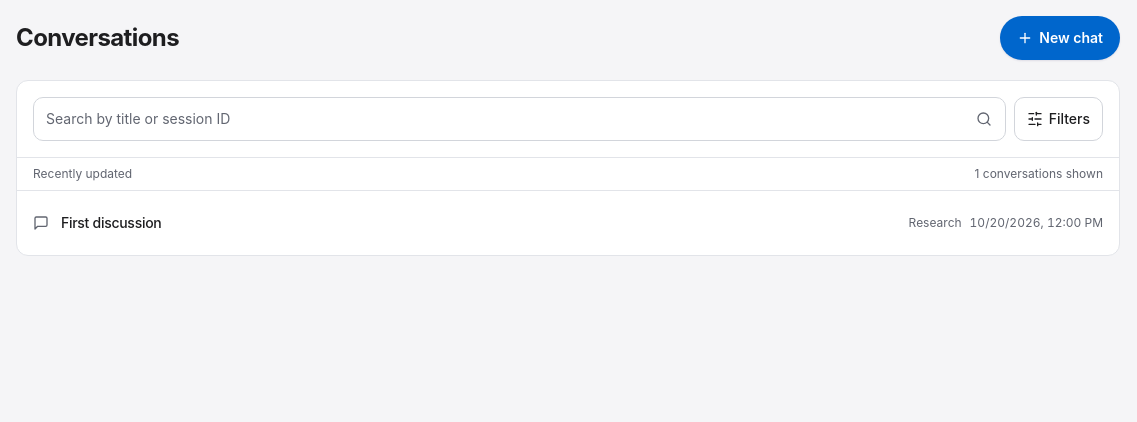
sessions 全局列表 › 筛选按需展开，收起保留草稿，应用后显示条件并可重置
Expected: the heading "First discussion" is shown, [61, 213, 162, 233]
Click the button "Filters".
click(1058, 119)  # box [1014, 97, 1103, 141]
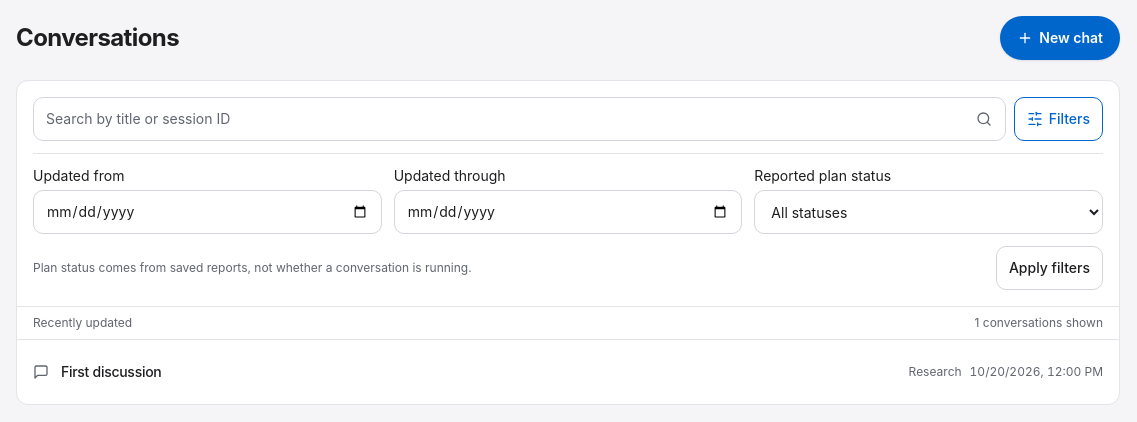
Select "Completed" in the dropdown labelled "Reported plan status" at (929, 212), box [754, 190, 1103, 234]
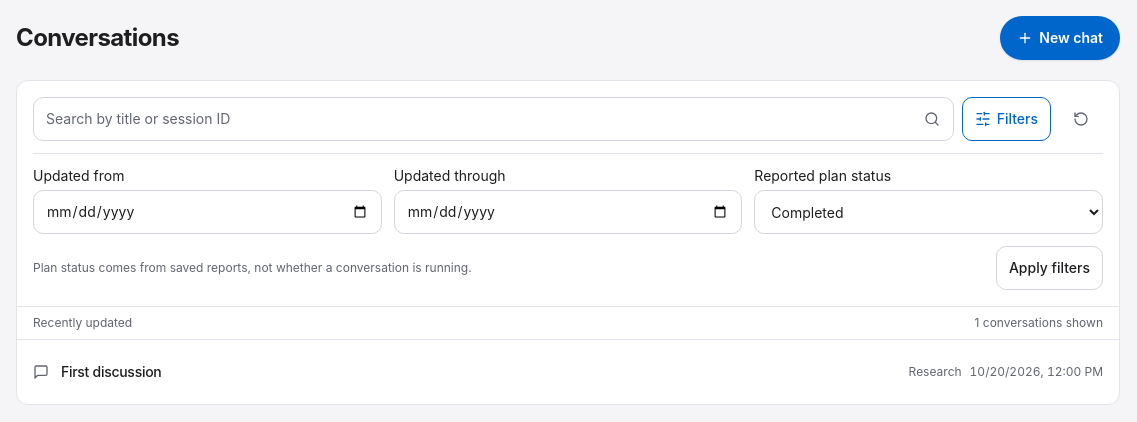
Click the button "Filters".
click(1006, 119)  # box [962, 97, 1051, 141]
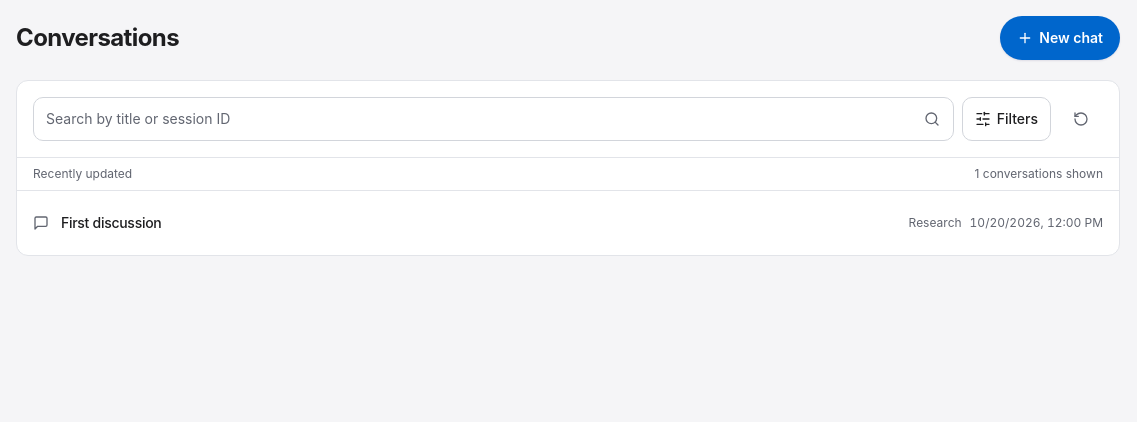
Click the button "Filters".
click(1006, 119)  # box [962, 97, 1051, 141]
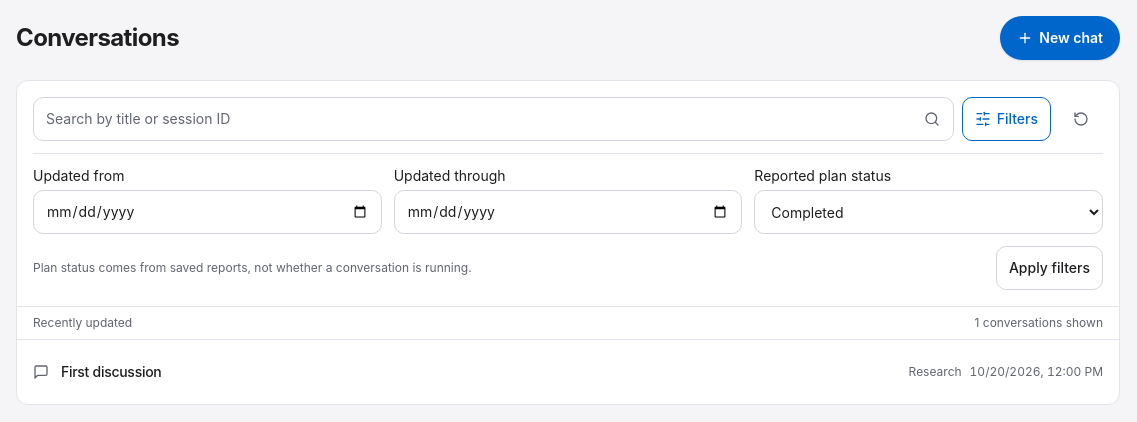
Result: the dropdown labelled "Reported plan status" shows "Completed" at [754, 190, 1103, 234]
Click the button "Apply filters".
click(1049, 268)  # box [996, 246, 1103, 290]
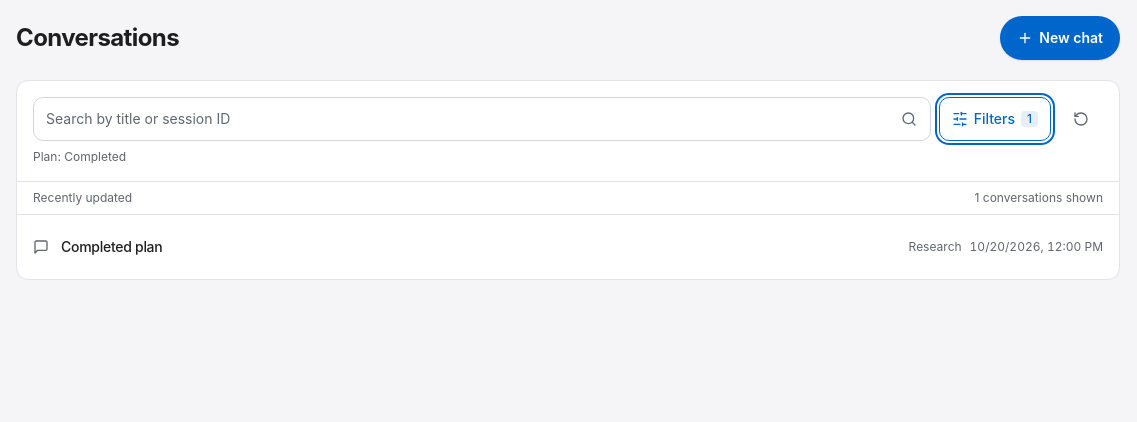
Result: the heading "Completed plan" is shown at [61, 237, 162, 257]
Result: the button "Filters 1" is collapsed at [939, 97, 1051, 141]
Result: the text "Plan: Completed" is shown at [33, 149, 126, 165]
Click the button named "Reset".
click(1081, 119)  # box [1059, 97, 1103, 141]
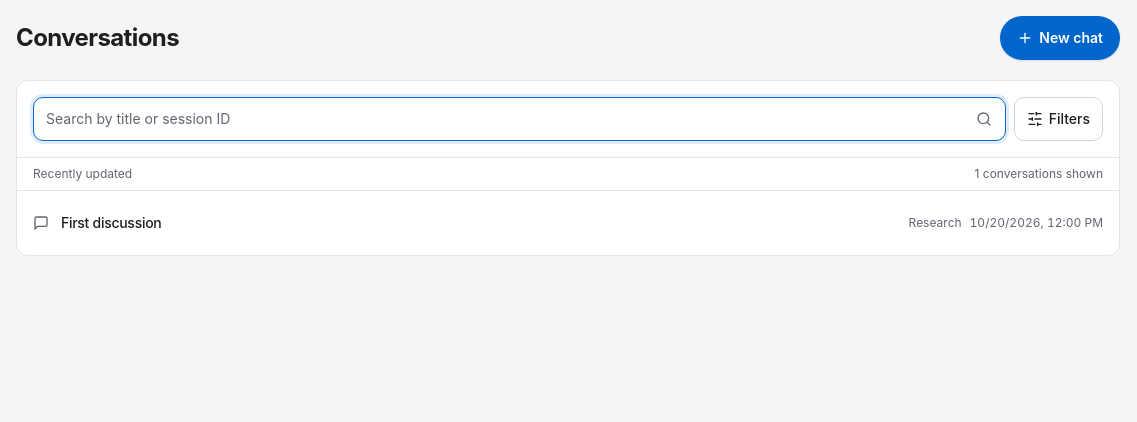
Result: the heading "First discussion" is shown at [61, 213, 162, 233]
Result: the text "Plan: Completed" is gone
